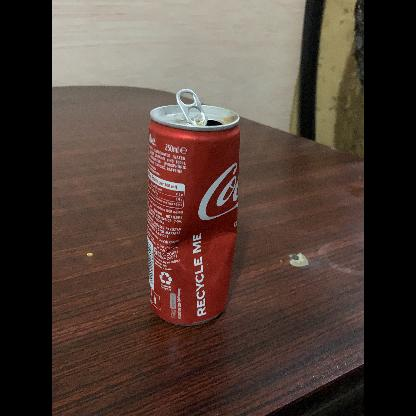Dent_Can: (175, 217, 238, 278), (159, 229, 191, 287)
Lid_Open: (171, 83, 225, 131)
Tin_Can: (140, 82, 244, 330)
